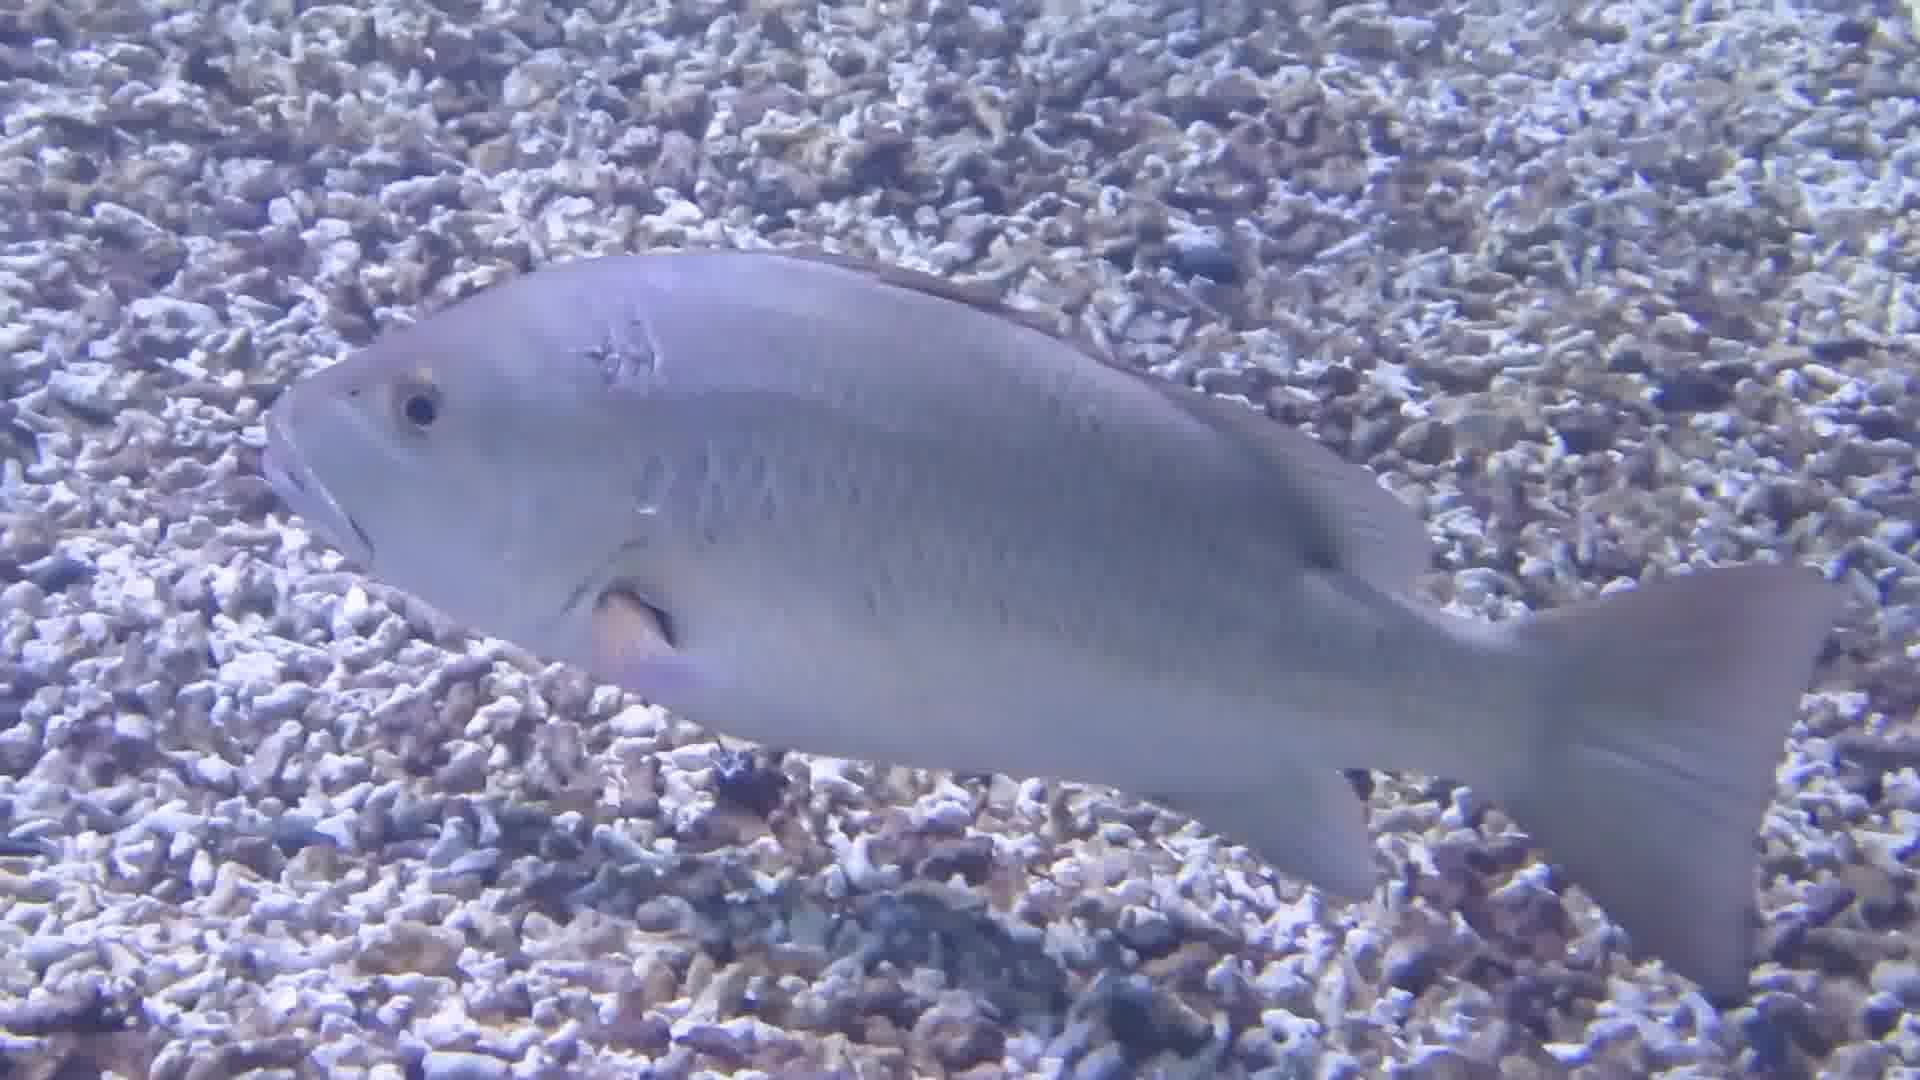Lutjanus argentimaculatus: (260, 200, 1604, 868)
